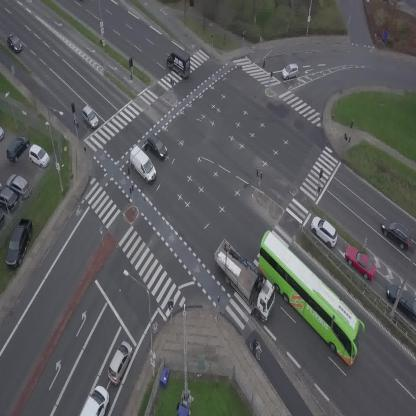bicycle: (247, 338, 265, 361)
bus: (241, 225, 379, 369)
car: (340, 241, 382, 284), (103, 339, 137, 386), (305, 212, 343, 250), (80, 382, 115, 416), (142, 133, 171, 161), (77, 104, 101, 131), (3, 32, 24, 54), (280, 62, 301, 81)
lorry: (205, 231, 287, 327), (123, 145, 162, 184), (162, 46, 198, 80)
